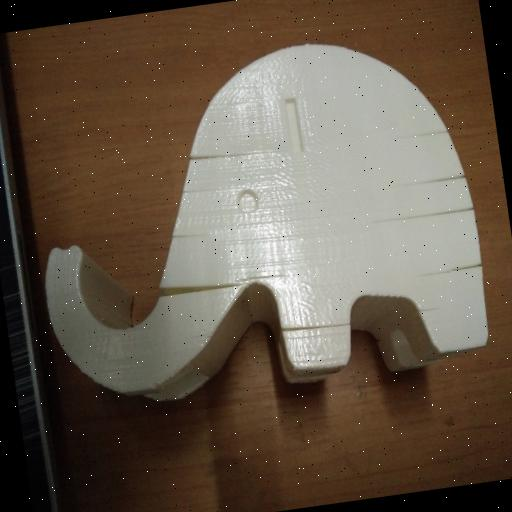cracks: (150, 269, 236, 320), (396, 192, 494, 234), (430, 258, 509, 304), (392, 118, 468, 158), (180, 146, 244, 193)
